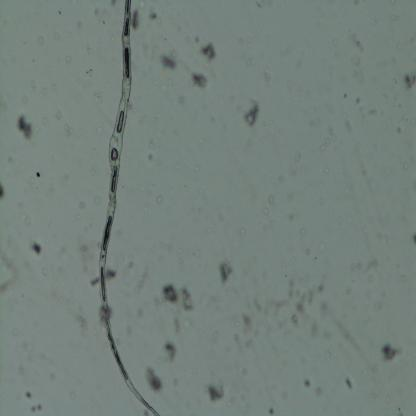Background material: (291, 280, 329, 322), (234, 302, 264, 350), (158, 284, 196, 314), (76, 230, 100, 277), (0, 246, 22, 292), (140, 258, 160, 289), (378, 342, 406, 363), (206, 380, 227, 405), (17, 114, 34, 144), (72, 302, 88, 333), (242, 104, 260, 129), (316, 129, 334, 154), (145, 367, 163, 392), (26, 387, 42, 414), (198, 39, 217, 61), (348, 31, 366, 54), (218, 260, 234, 285), (362, 258, 380, 276), (190, 71, 209, 88), (163, 343, 178, 364), (404, 68, 416, 92), (131, 10, 144, 32), (159, 53, 178, 68), (174, 88, 187, 108), (146, 5, 159, 25), (82, 65, 96, 81), (29, 75, 39, 94), (344, 373, 355, 390), (63, 126, 77, 139), (0, 177, 7, 202), (138, 304, 148, 321), (292, 152, 304, 166), (53, 107, 64, 122), (91, 90, 104, 102), (31, 242, 42, 255), (35, 34, 44, 49), (407, 230, 416, 244), (146, 150, 156, 162), (265, 406, 277, 416), (300, 376, 310, 387), (268, 193, 276, 206), (74, 21, 84, 31), (278, 173, 285, 185), (341, 88, 348, 100), (354, 96, 362, 106)
Cotton: (97, 0, 160, 416)
